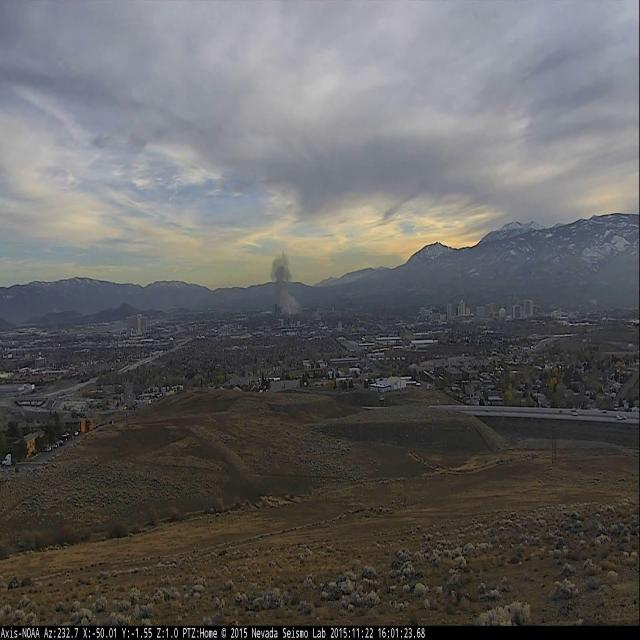smoke: (265, 248, 306, 324)
